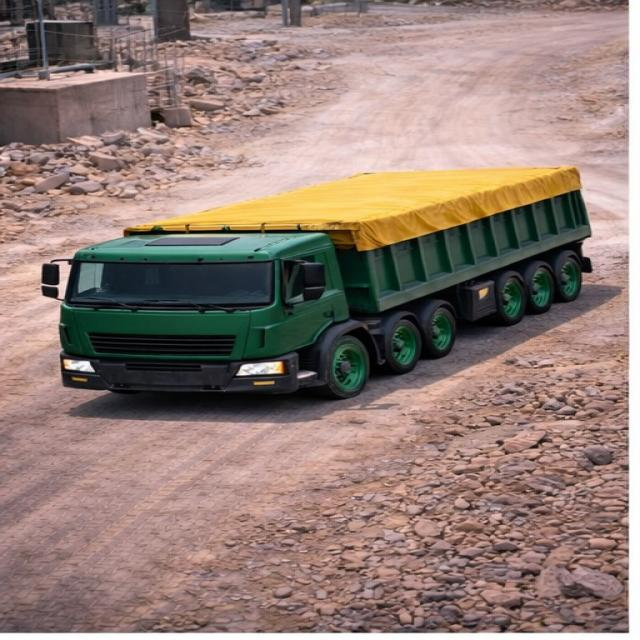Box: (116, 162, 584, 232)
Truck: (39, 146, 606, 405)
